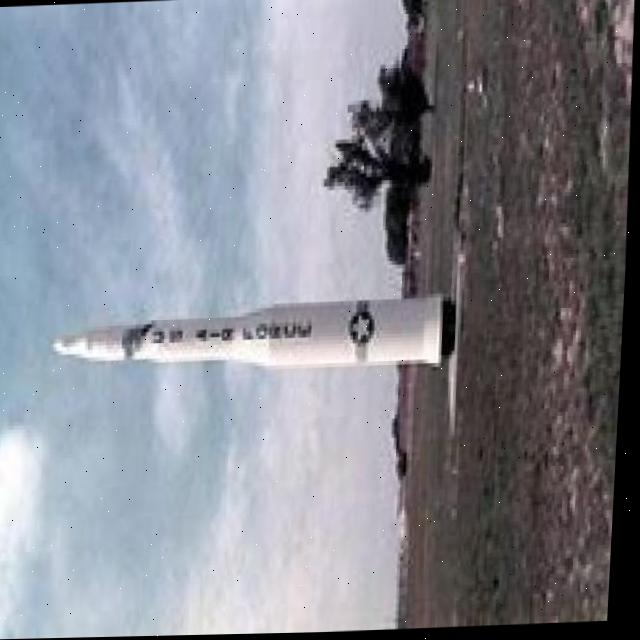missile: (48, 284, 460, 378)
